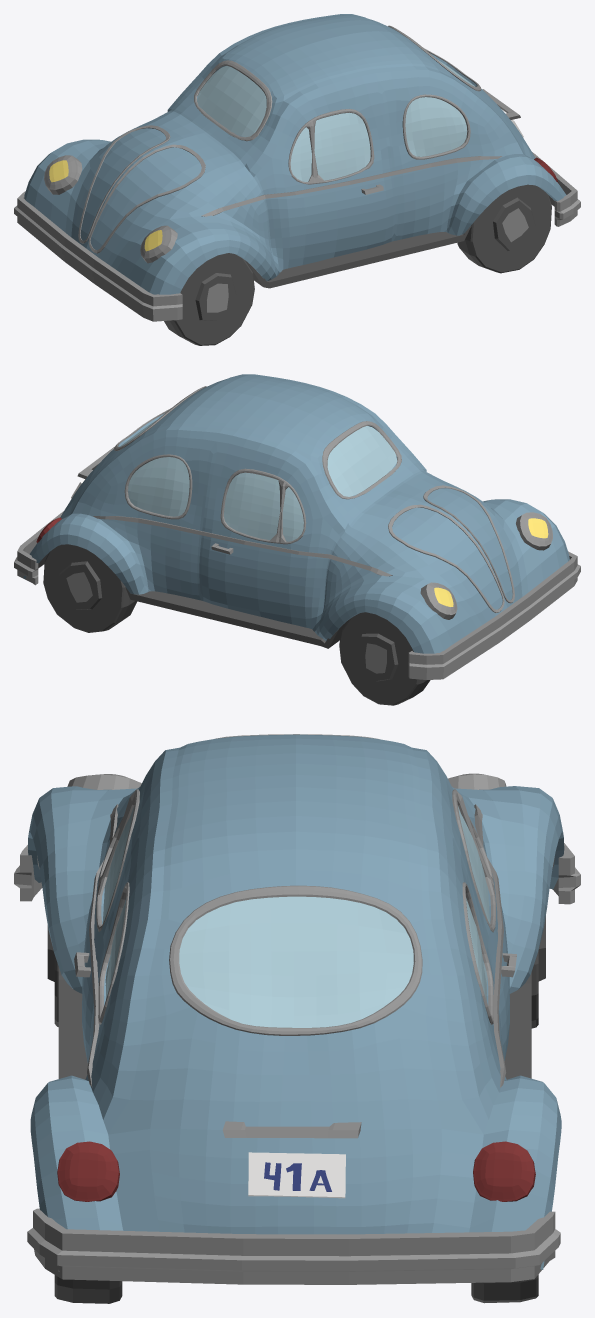
The model's file is Car.fbx.
The picture shows the model from 3 angles, top to bottom: view 1: azimuth 30°, elevation 25°; view 2: azimuth 150°, elevation 25°; view 3: azimuth 270°, elevation 25°; orthographic projection. The views are drawn at different scales.
Parts seen in each view (by area): view 1: Car; view 2: Car; view 3: Car.
Boxes of the visible parts, box(x1,y1,x2,y2) form: Car: box(14, 14, 580, 345); Car: box(14, 374, 580, 705); Car: box(14, 734, 580, 1303).
Bounding box in the file's own units: 514 × 301 × 241.
